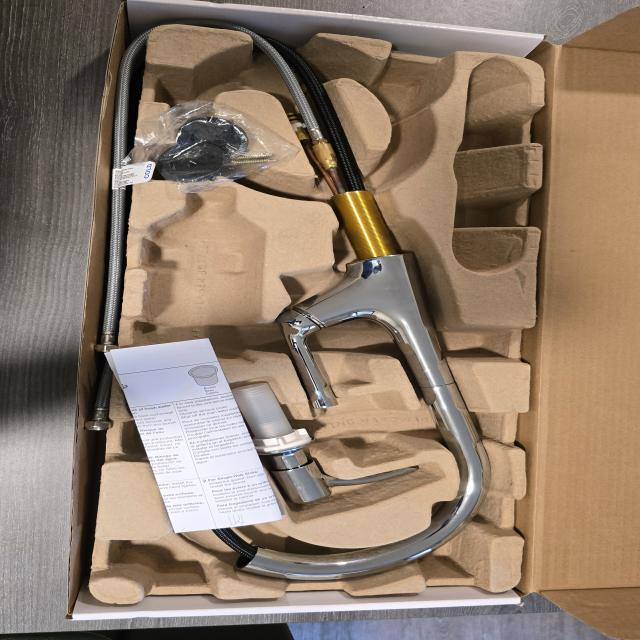1o: (134, 30, 494, 578)
2: (230, 382, 420, 505)
3m: (129, 185, 266, 360)
4m: (450, 57, 530, 273)
5m: (376, 64, 447, 118)
6m: (152, 49, 252, 118)
7: (119, 99, 300, 195)
8: (103, 338, 284, 534)
